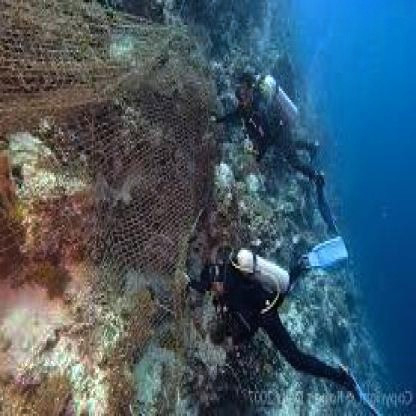net: (2, 11, 216, 416)
